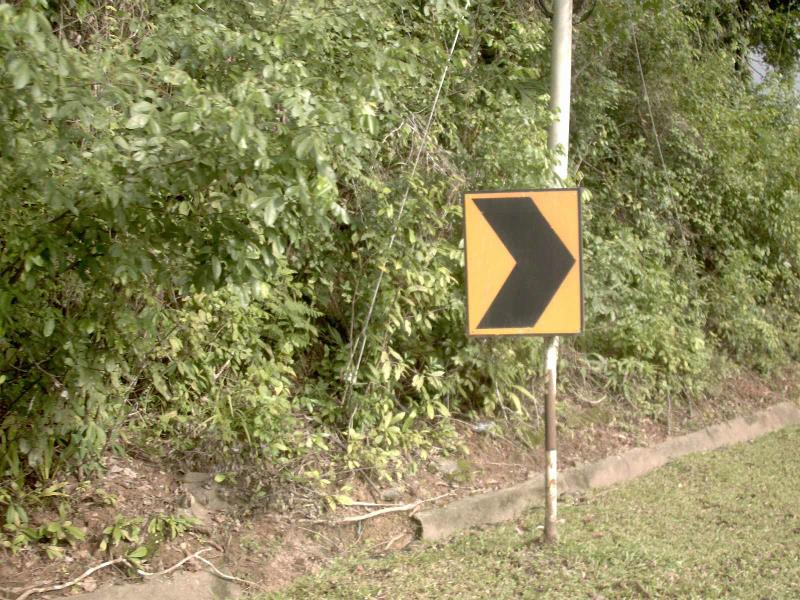traffic_sign: (450, 167, 596, 357)
